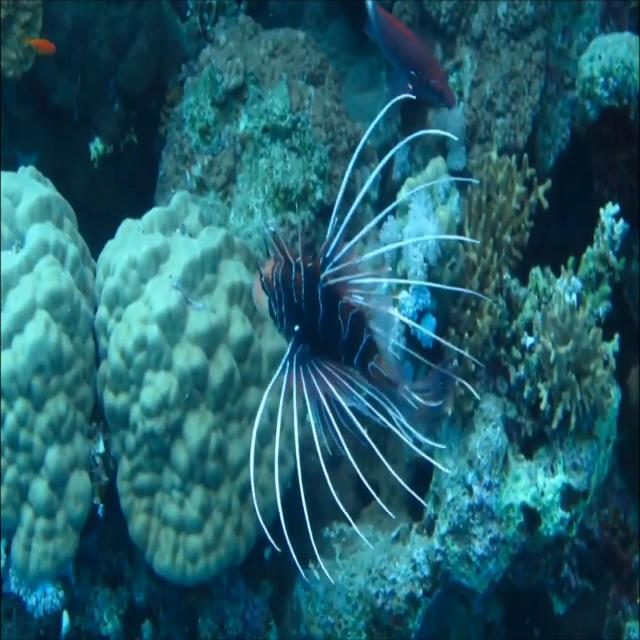Lionfish -Endangered- -Poisonous-: (247, 94, 488, 583)
